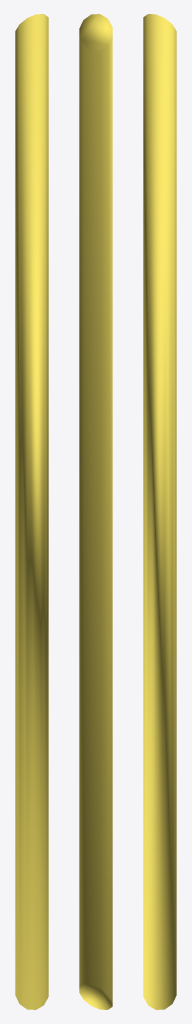
The model's file is muz.glb.
3 renders of one model, left to right at view 1: azimuth 30°, elevation 25°; view 2: azimuth 150°, elevation 25°; view 3: azimuth 330°, elevation 25°, orthographic.
Parts seen in each view (by area): view 1: Muz; view 2: Muz; view 3: Muz.
Boxes of the visible parts, bbox=[...] form: Muz: bbox=[15, 14, 48, 1009]; Muz: bbox=[79, 14, 112, 1009]; Muz: bbox=[143, 14, 176, 1009].
Bounding box in the file's own units: 0.0335 × 0.95 × 0.0142.
